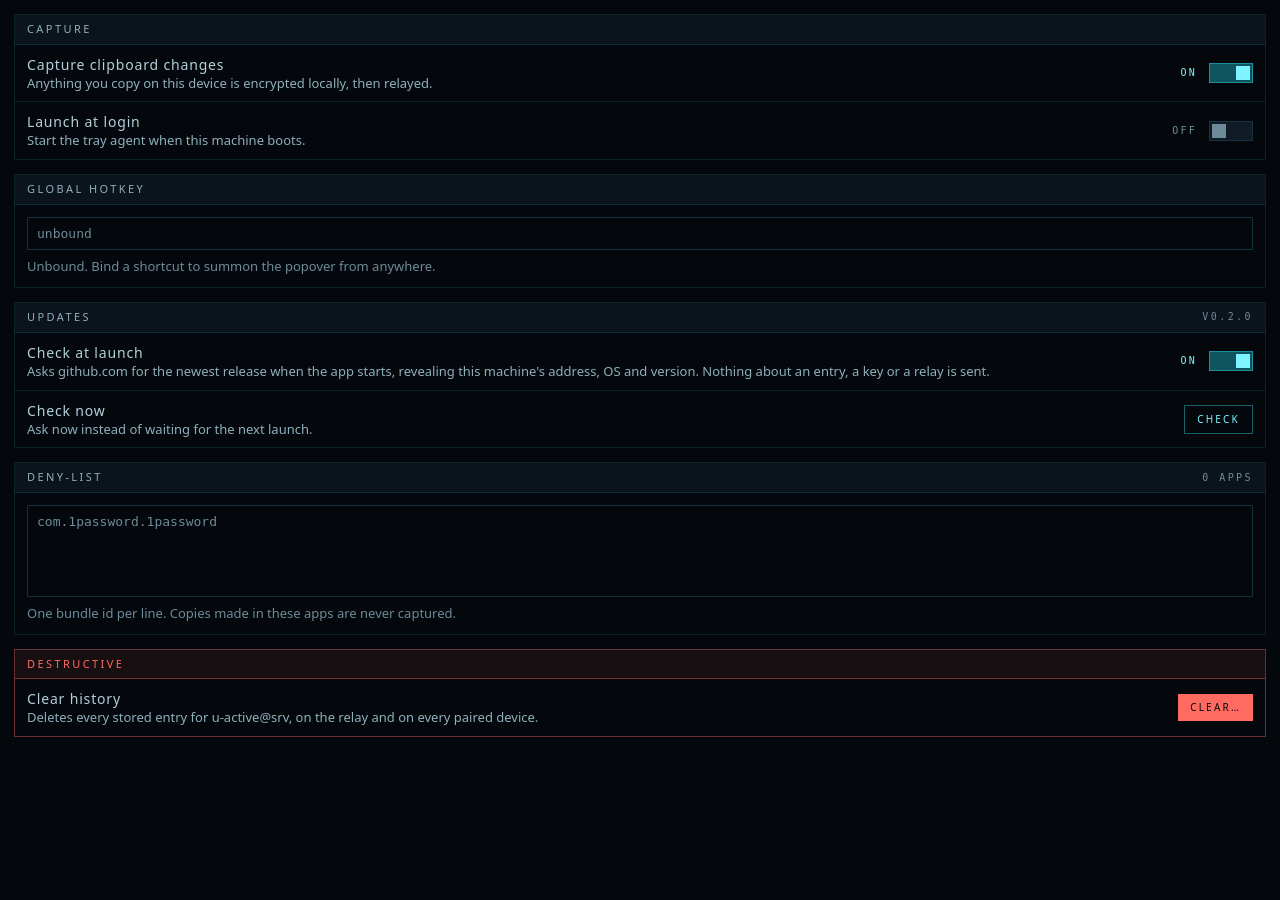
Test: SettingsSection updates › surfaces a failed check in the error line
The image size is (1280, 900).
Step 1. Click the button with test id "check-for-update" → [1219, 419], box [1184, 404, 1253, 434]
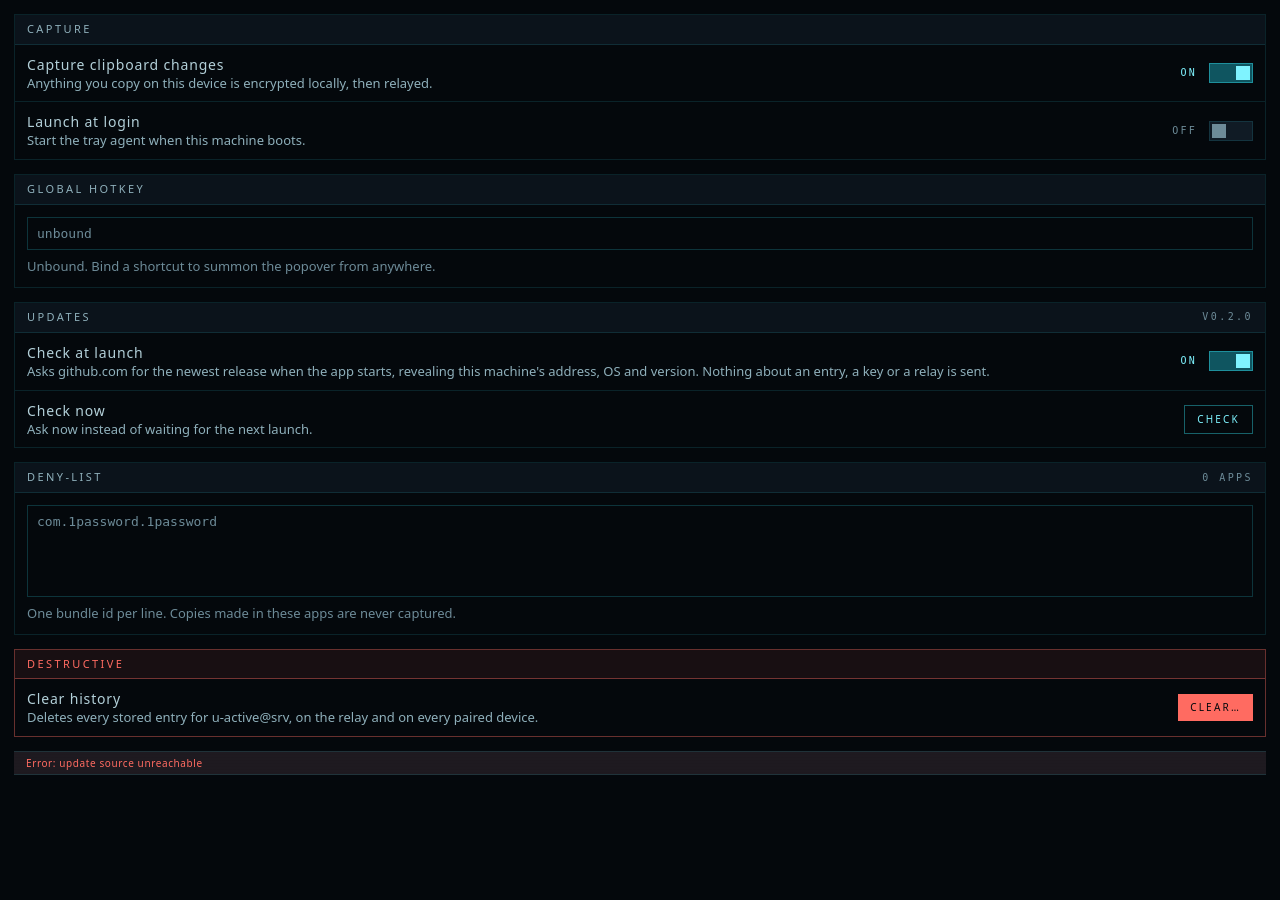
Check: the text "Error: update source unreachable" is shown, box [26, 756, 203, 771]
